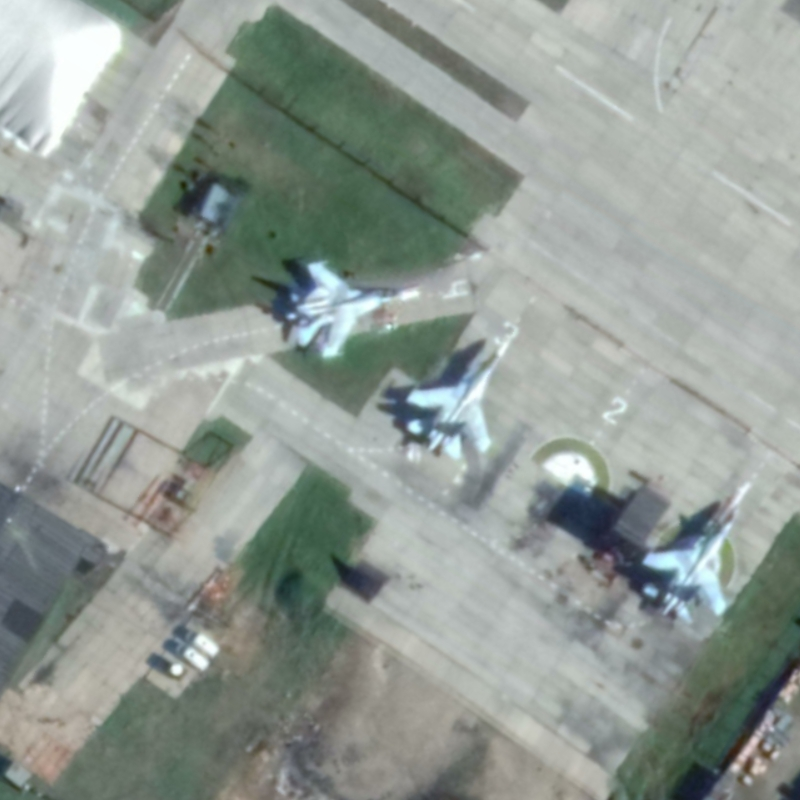A1: (282, 256, 423, 363), (402, 337, 511, 463), (636, 500, 739, 628)
